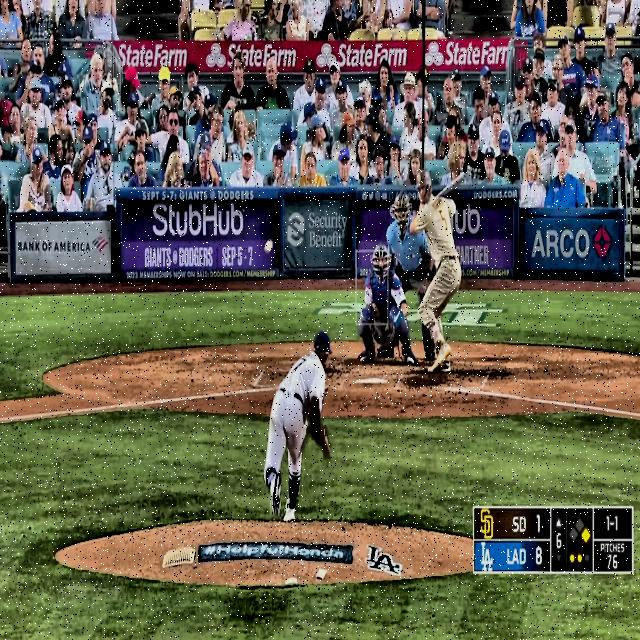baseball: (264, 239, 273, 254)
